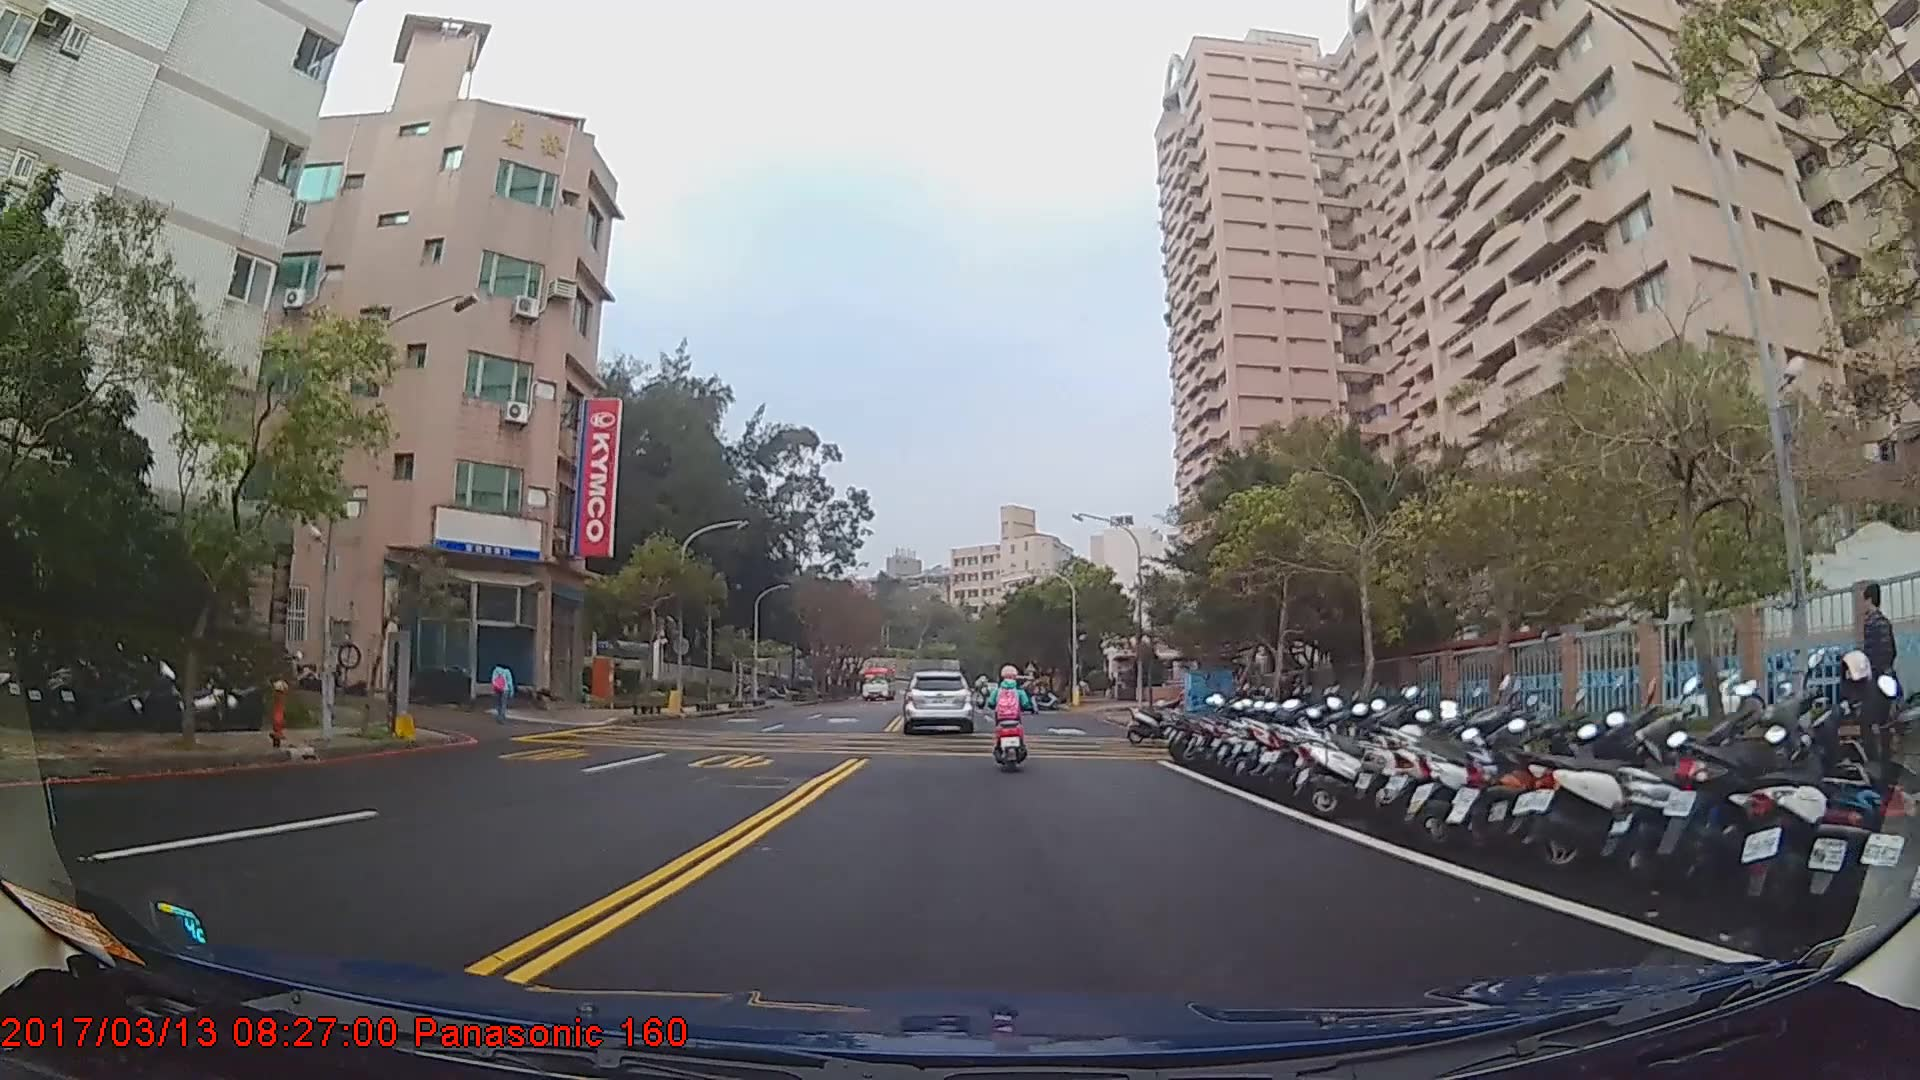pedestrian: (1852, 580, 1901, 772), (490, 655, 515, 726)
rider: (982, 663, 1031, 781)
vehicle: (902, 668, 972, 734), (855, 665, 895, 702)
